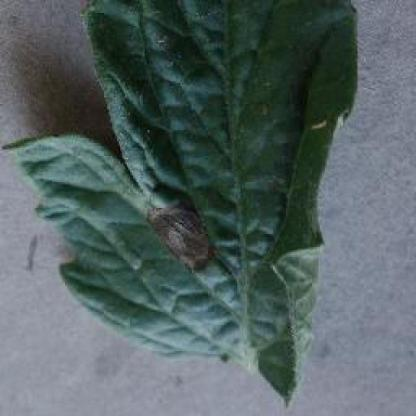Strawberry_Angular_LeafSpot: (142, 197, 217, 275)
